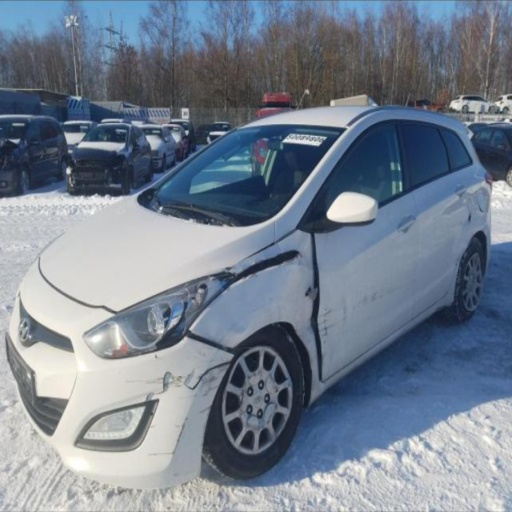dent: (290, 266, 340, 345), (292, 232, 311, 272), (468, 189, 490, 214), (434, 306, 450, 315)
scratch: (173, 420, 185, 452), (125, 376, 163, 385), (198, 372, 213, 389), (148, 450, 173, 458), (202, 384, 217, 397), (184, 368, 195, 385), (319, 310, 332, 320), (166, 380, 182, 388), (319, 324, 333, 332), (208, 376, 222, 384), (216, 367, 228, 374), (371, 296, 384, 302), (198, 406, 209, 413), (199, 370, 207, 378), (175, 375, 184, 381), (181, 395, 194, 399), (389, 287, 397, 293), (319, 321, 327, 326), (371, 291, 377, 297), (321, 334, 328, 339), (185, 414, 189, 420), (343, 307, 346, 314), (342, 316, 345, 320), (358, 300, 360, 305), (175, 425, 180, 427), (364, 294, 367, 297), (195, 394, 198, 397), (353, 306, 355, 310), (325, 308, 327, 311), (364, 299, 367, 301), (364, 303, 368, 304)
